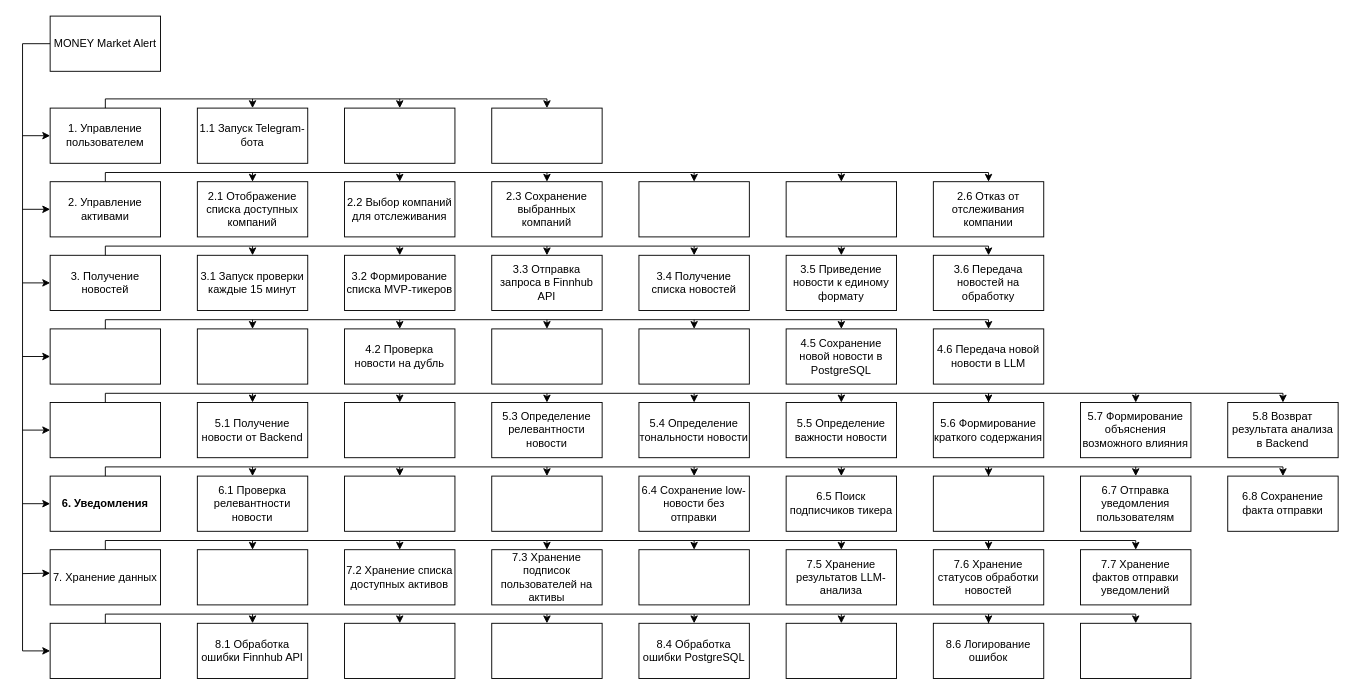
The diagram is 1354 pixels wide and 695 high, and some of its shapes have lost their labels. Here are the shapes that lost their labels. From the top down, the centre of each, then its label:
At [399,135]: "1.2 Регистрация пользователя в системе".
At [546,135]: "1.3 Отображение главного меню".
At [693,209]: "2.4 Просмотр отслеживаемых компаний".
At [841,209]: "2.5 Изменение списка компаний".
At [105,356]: "4. Обработка новостей".
At [252,356]: "4.1 Проверка external_id новости".
At [546,356]: "4.3 Определение статуса новости: новая / старая".
At [693,356]: "4.4 Завершение обработки старой новости".
At [105,430]: "5. LLM-анализ".
At [399,430]: "5.2 Анализ содержания новости".
At [399,503]: "6.2 Сохранение нерелевантной новости как rejected".
At [546,503]: "6.3 Проверка важности новости".
At [988,503]: "6.6 Формирование Telegram-уведомления".
At [252,577]: "7.1 Хранение Telegram-пользователей".
At [693,577]: "7.4 Хранение полученных новостей".
At [105,650]: "8. Обработка ошибок".
At [399,650]: "8.2 Обработка ошибки LLM API".
At [546,650]: "8.3 Обработка ошибки Telegram API".
At [841,650]: "8.5 Обработка некорректного ответа от LLM".
At [1135,650]: "8.7 Повторная попытка обработки".
